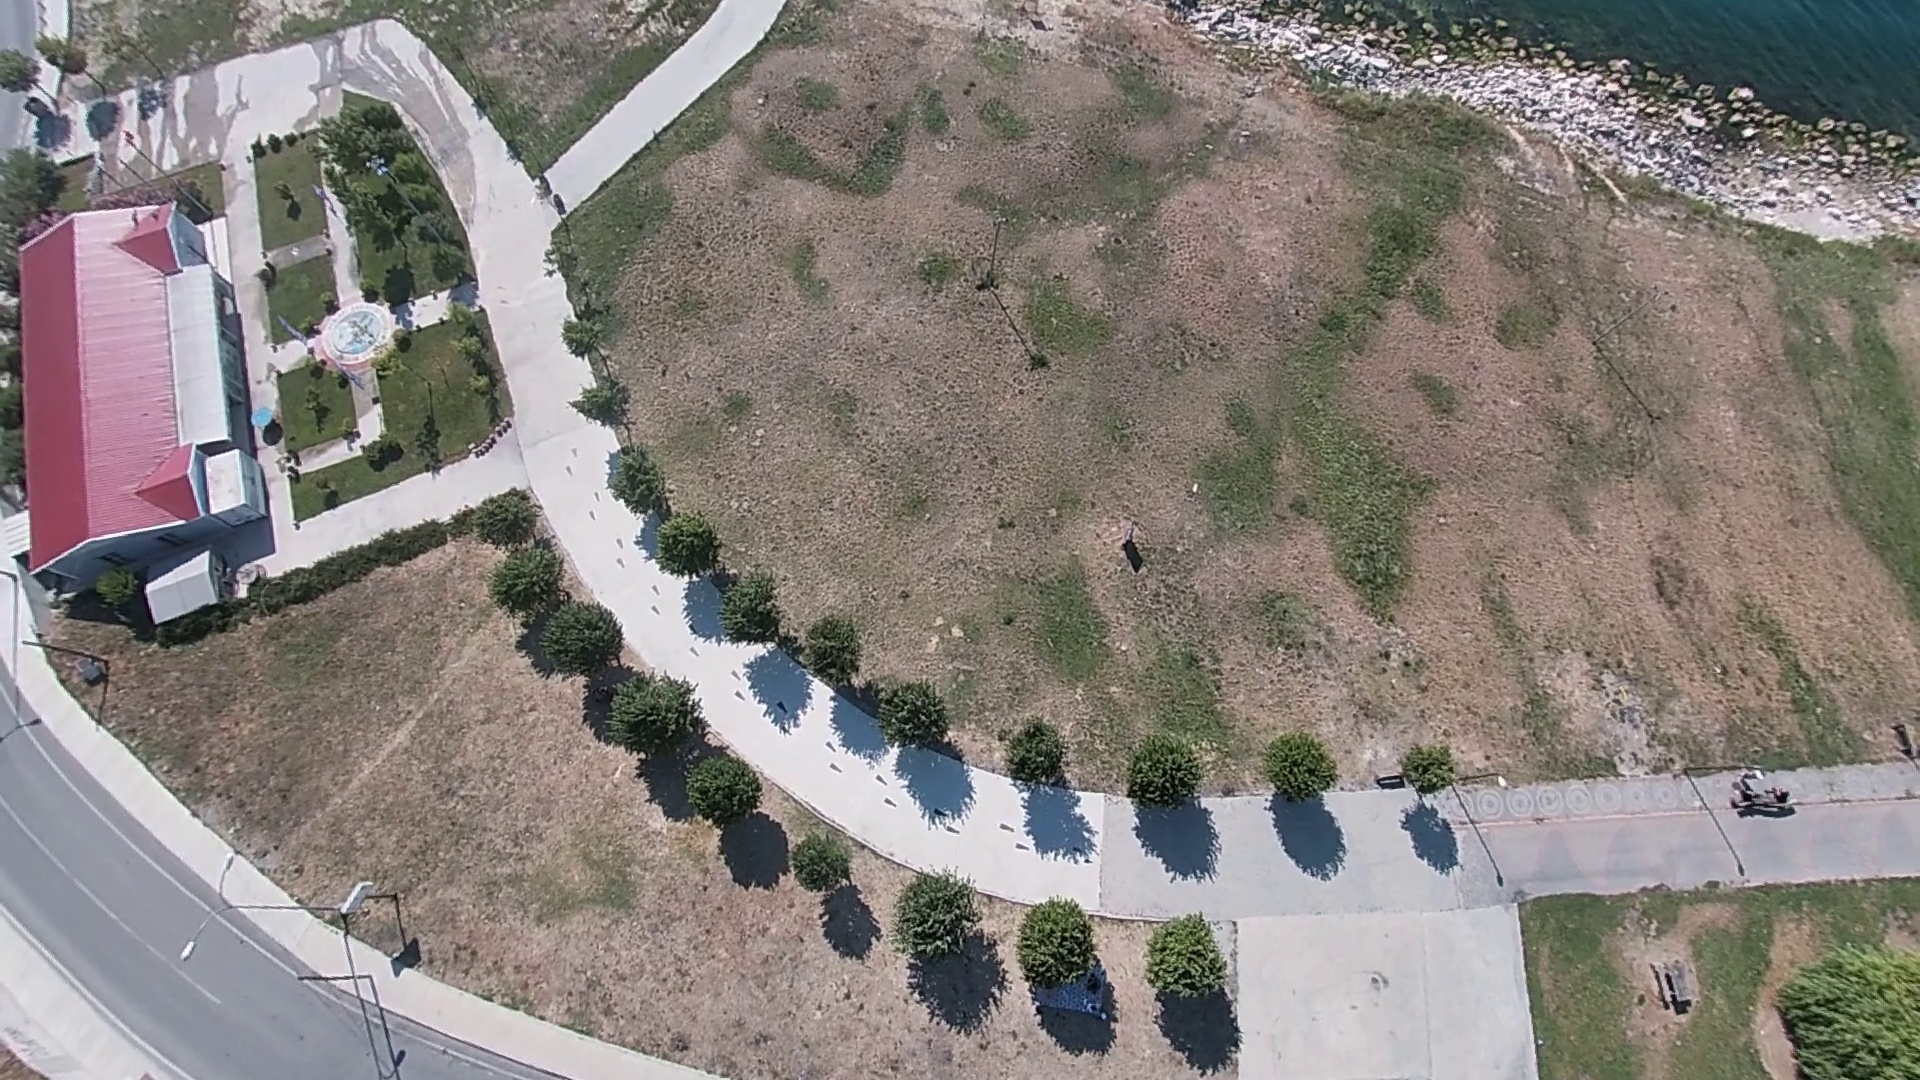arac: (1648, 963, 1691, 1013)
